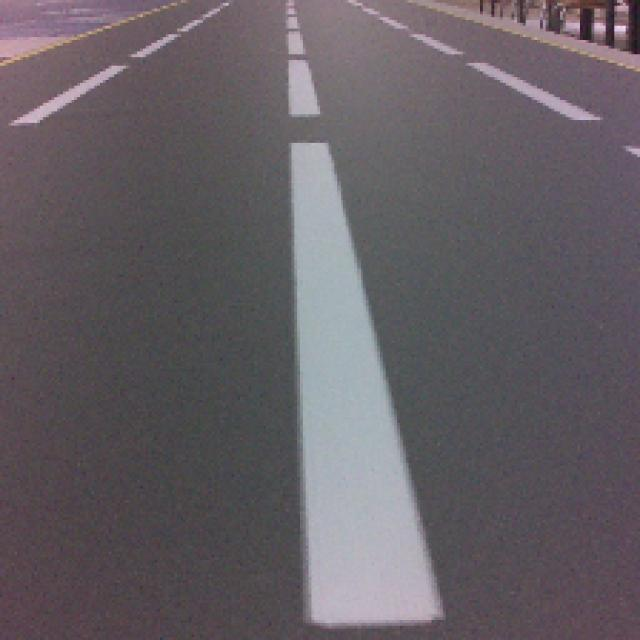Pedestrian crosswalk: (292, 137, 447, 627)
